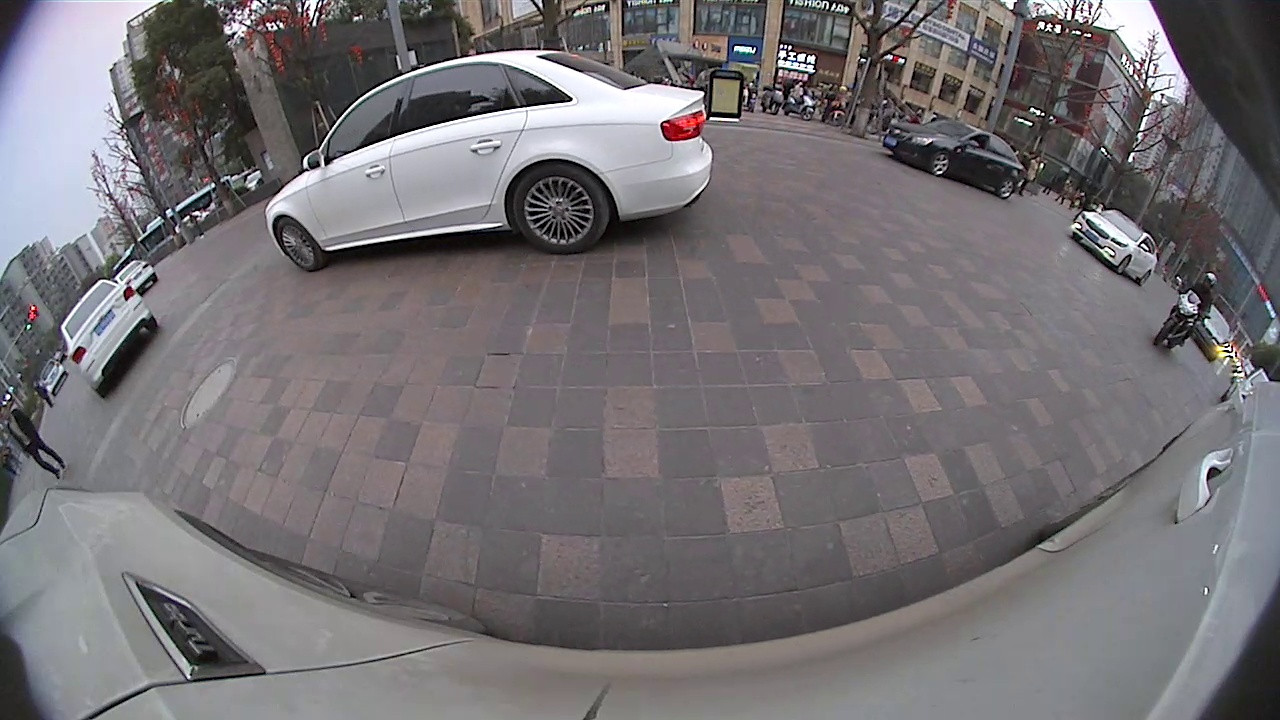bus: (163, 2, 868, 253), (49, 213, 139, 338)
car: (676, 44, 1076, 258), (1009, 192, 1212, 411), (99, 244, 192, 348), (1202, 343, 1271, 409)
front: (769, 148, 855, 235), (267, 164, 321, 228)
rear: (601, 71, 687, 153), (978, 196, 1031, 256), (124, 320, 146, 342)
truck: (1, 192, 113, 520)
